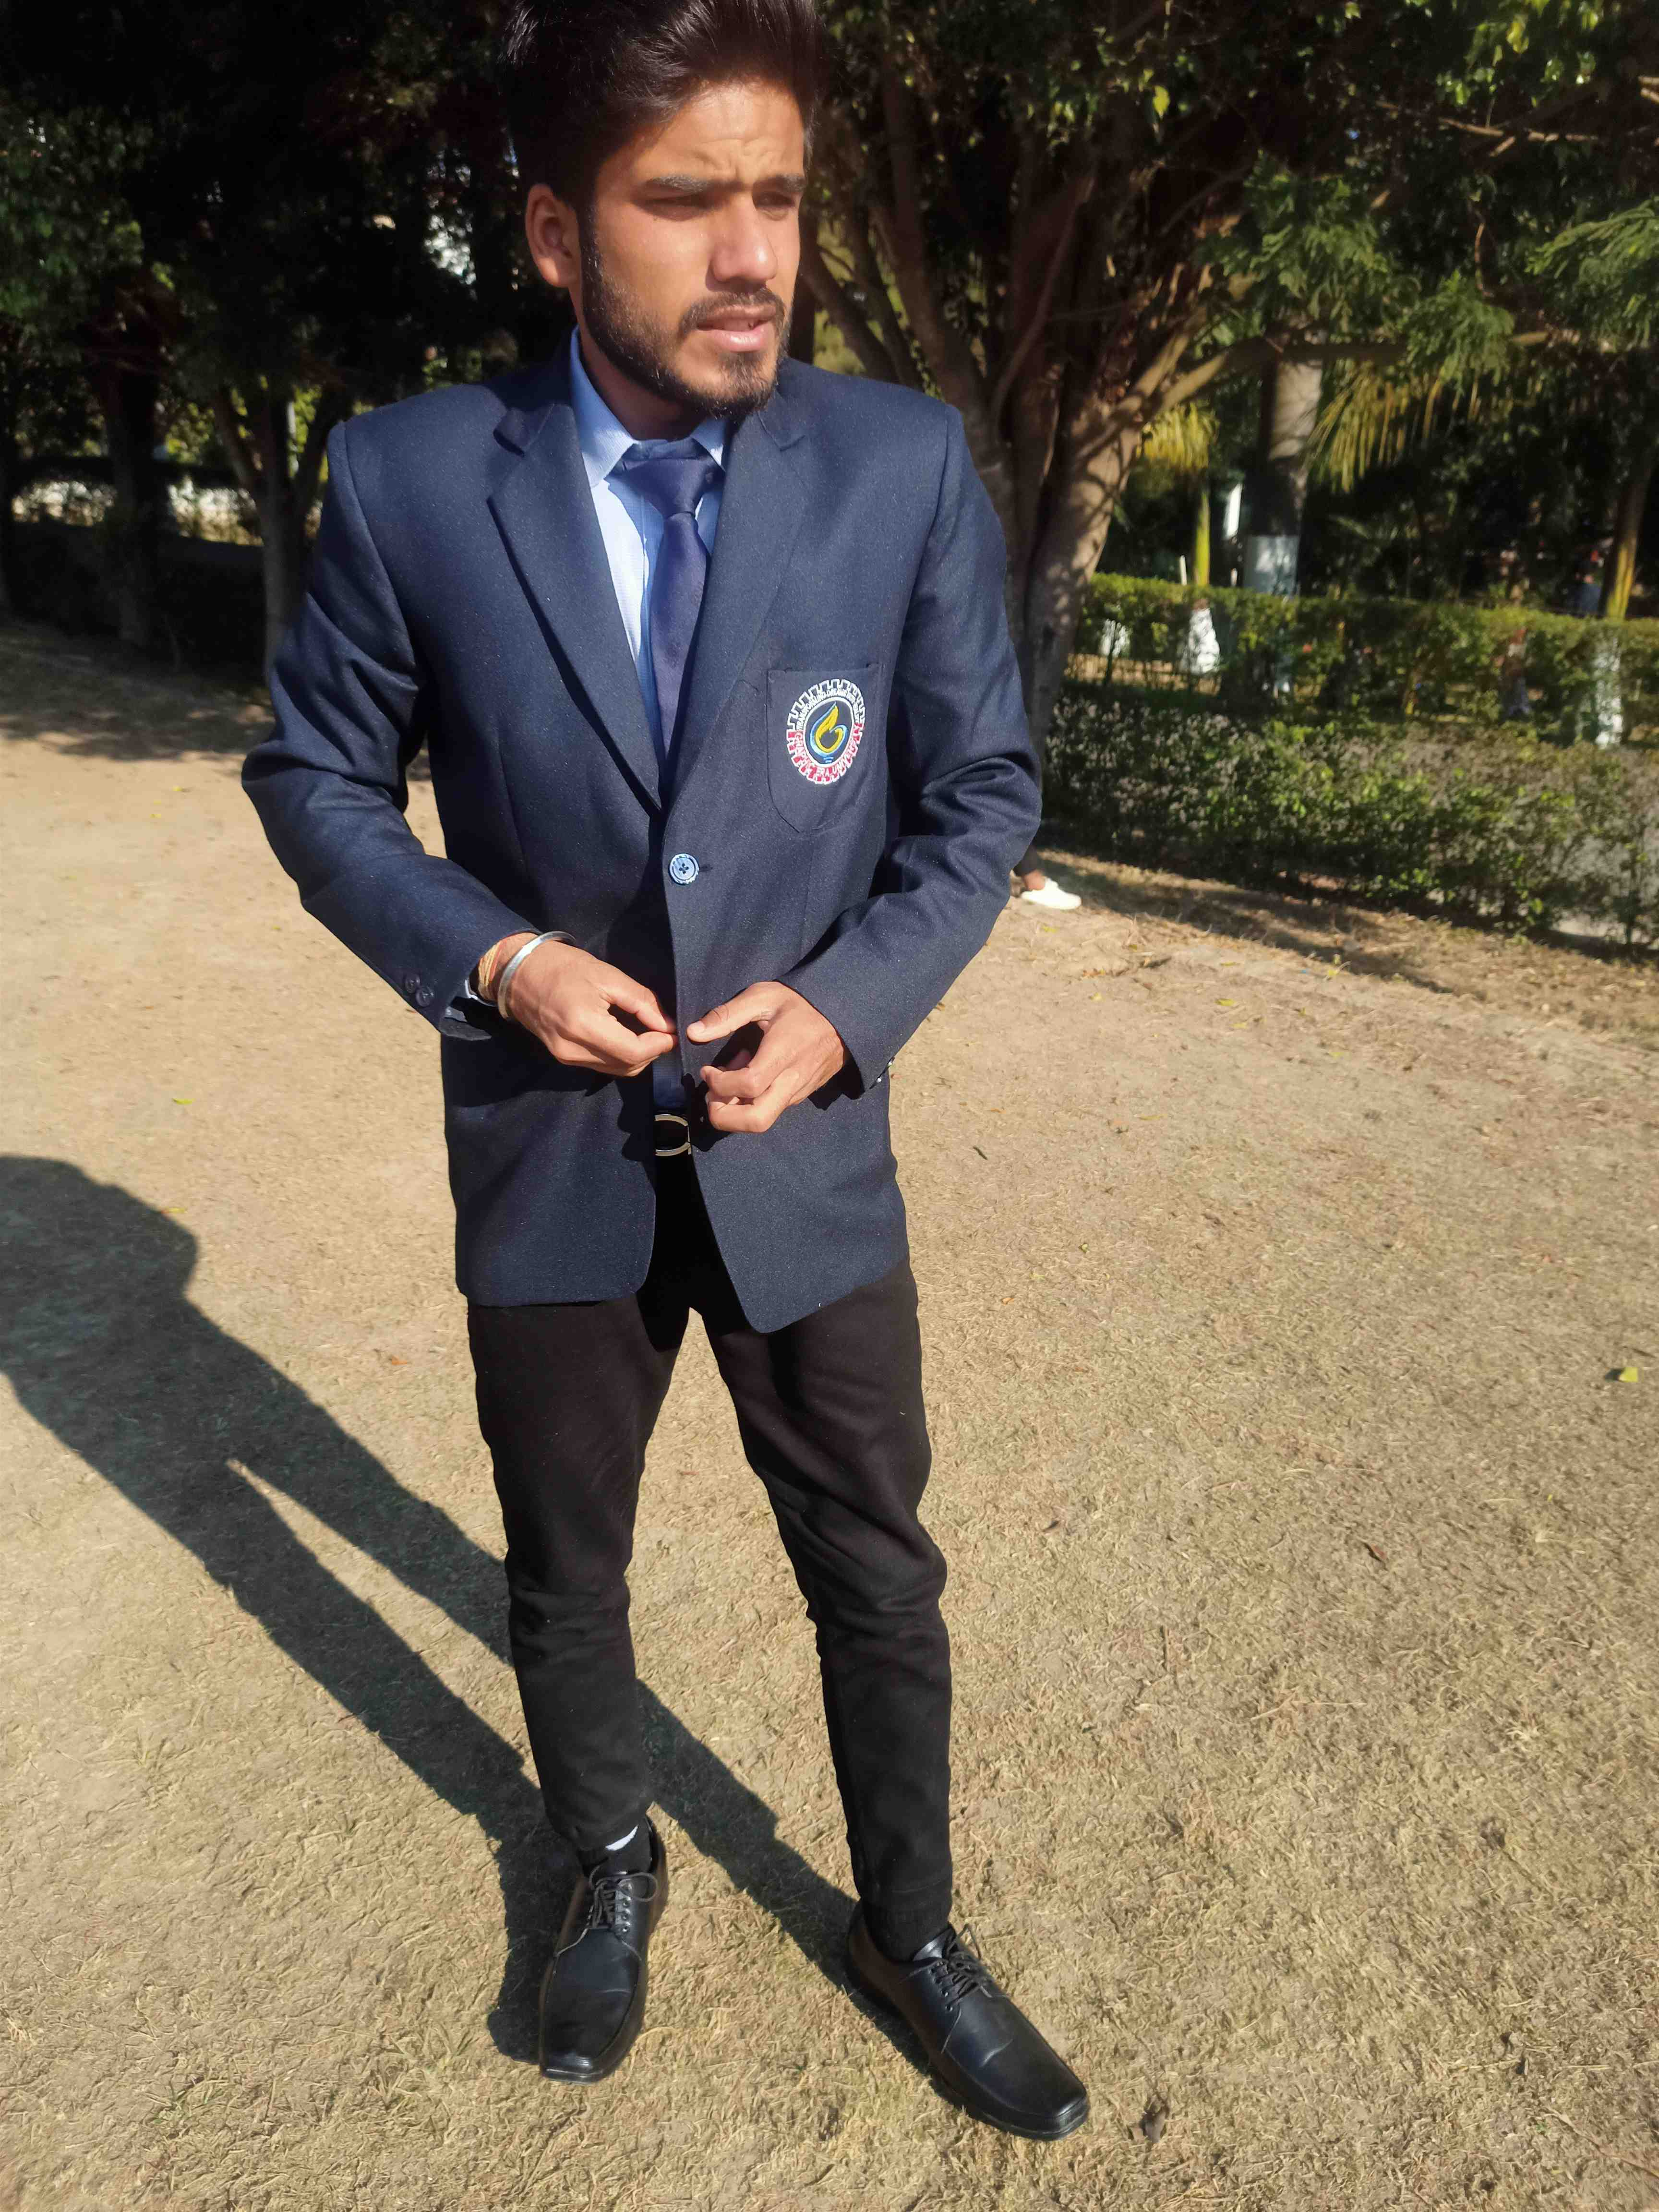blazer: (247, 376, 992, 1312)
tie: (613, 455, 730, 744)
